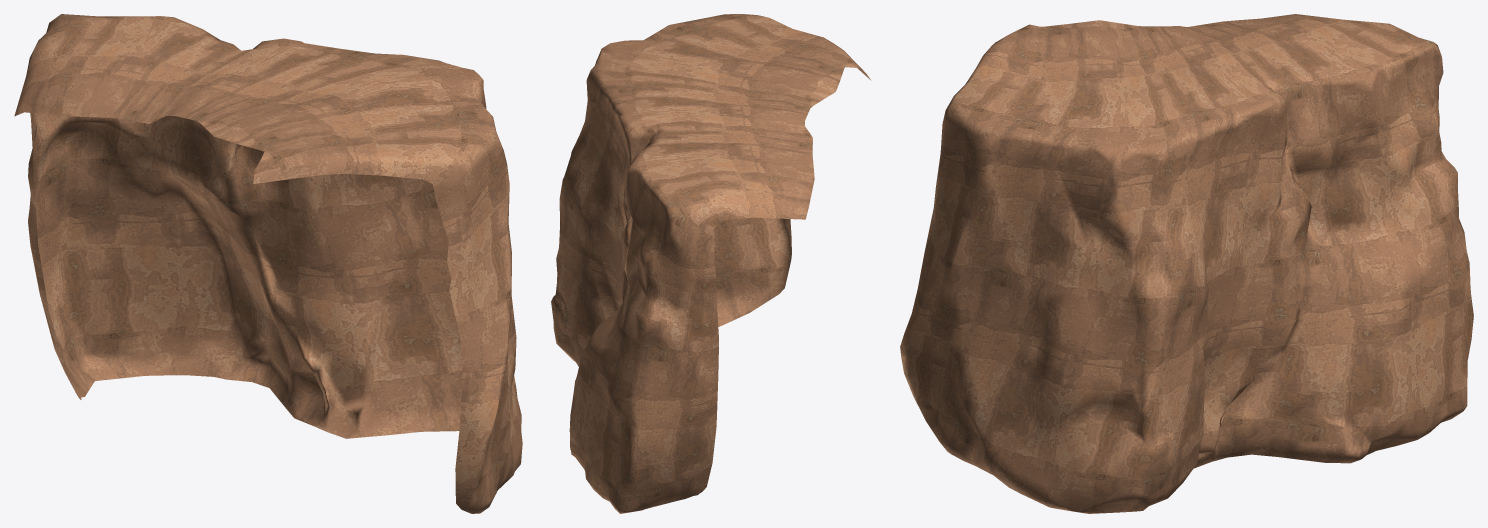
The model's file is Ob_RockCliff24.fbx.
The picture shows the model from 3 angles, left to right: view 1: azimuth 30°, elevation 25°; view 2: azimuth 150°, elevation 25°; view 3: azimuth 270°, elevation 25°; orthographic projection. The views are drawn at different scales.
Parts seen in each view (by area): view 1: Ob_RockCliff24; view 2: Ob_RockCliff24; view 3: Ob_RockCliff24.
Part boxes in pixels (left/top/right/bottom): Ob_RockCliff24: left=14, top=14, right=522, bottom=513; Ob_RockCliff24: left=551, top=14, right=871, bottom=513; Ob_RockCliff24: left=900, top=14, right=1473, bottom=513.
Size of the model in its own units: 30675 by 29081 by 40310.
